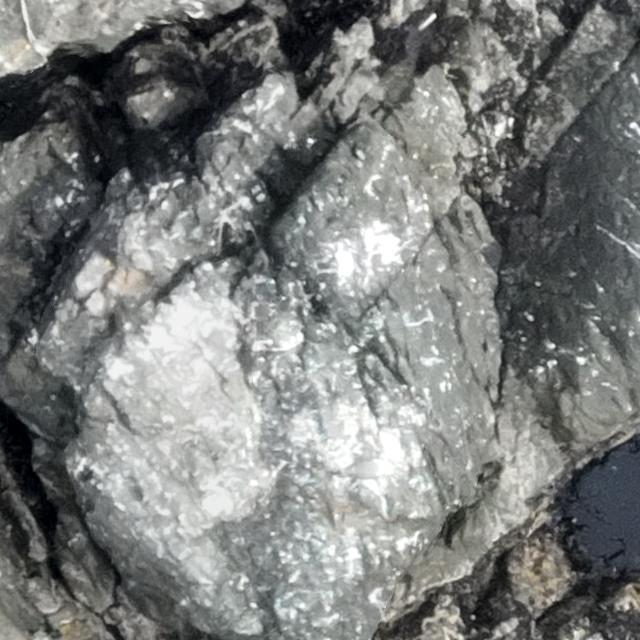umineko: (345, 458, 395, 478)
